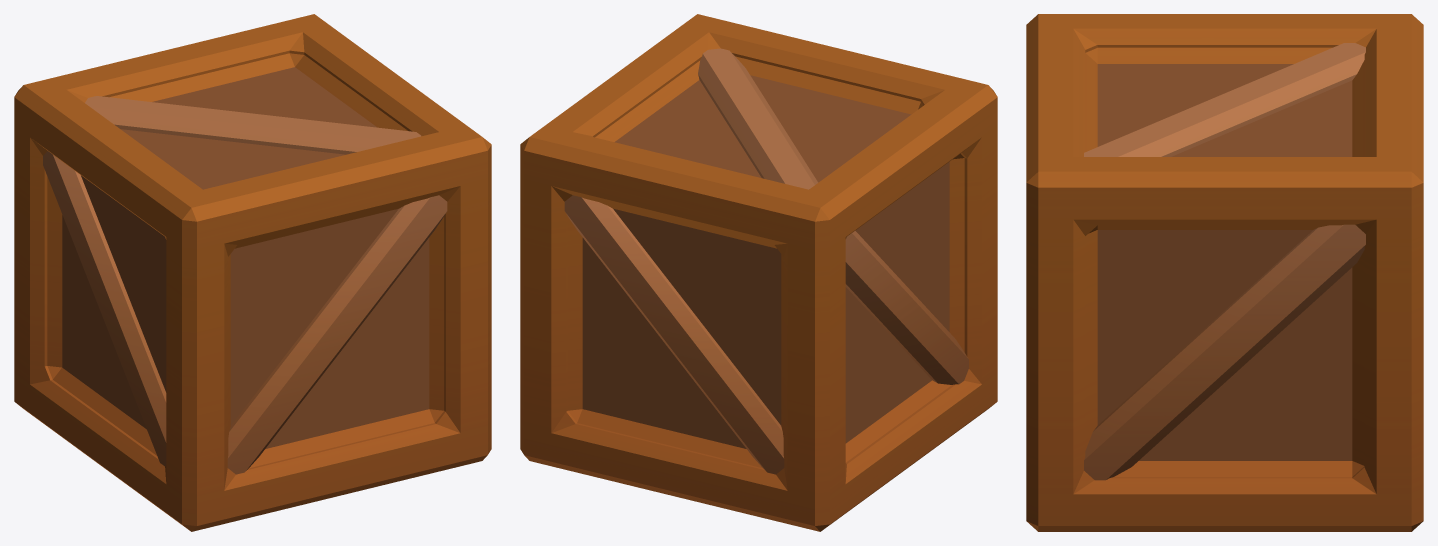
3 renders of one model, left to right at view 1: azimuth 30°, elevation 25°; view 2: azimuth 150°, elevation 25°; view 3: azimuth 270°, elevation 25°, orthographic. The views are drawn at different scales.
Parts seen in each view (by area): view 1: Box; view 2: Box; view 3: Box.
Part boxes in pixels (<box>): Box: <box>14,14,491,531</box>; Box: <box>520,14,997,531</box>; Box: <box>1026,14,1423,531</box>.
Size of the model in its own units: 65.86 by 65.86 by 65.86.
